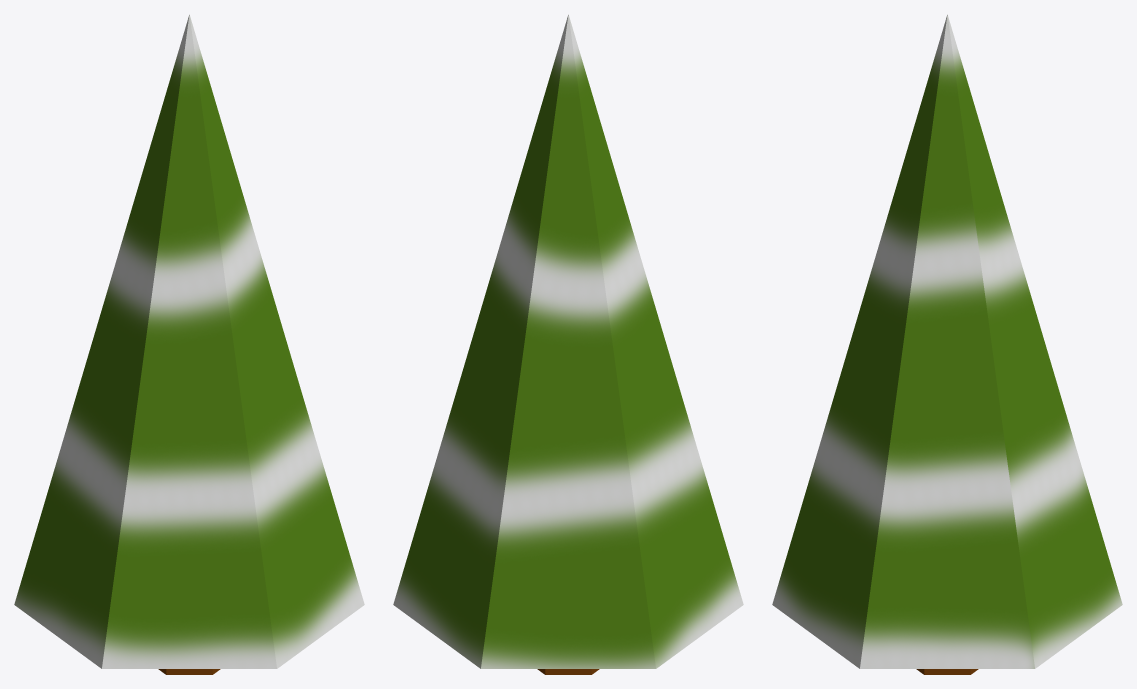
The model's file is arbre-grand.fbx.
3 renders of one model, left to right at view 1: azimuth 30°, elevation 25°; view 2: azimuth 150°, elevation 25°; view 3: azimuth 270°, elevation 25°, orthographic.
Parts seen in each view (by area): view 1: Cone; view 2: Cone; view 3: Cone.
Part boxes in pixels (left/top/right/bottom): Cone: left=14, top=14, right=364, bottom=674; Cone: left=393, top=14, right=743, bottom=674; Cone: left=772, top=14, right=1122, bottom=674.
Size of the model in its own units: 173 by 405 by 200.
